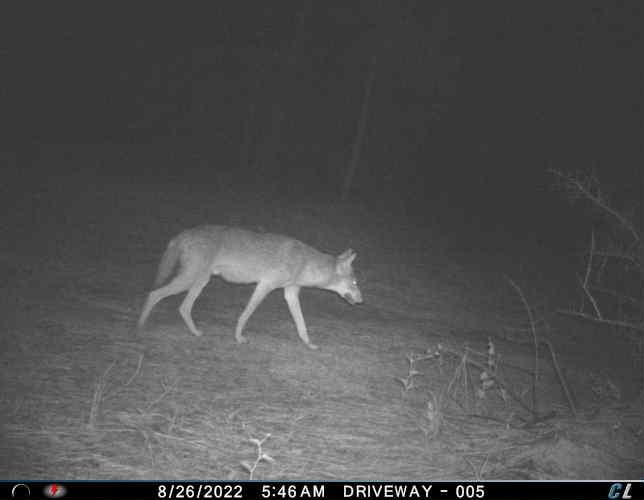Coyote: (131, 221, 366, 354)
